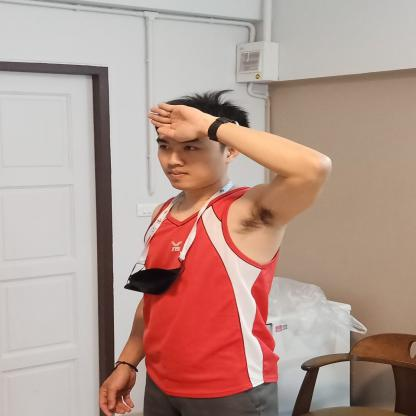Sick: (89, 81, 249, 161)
